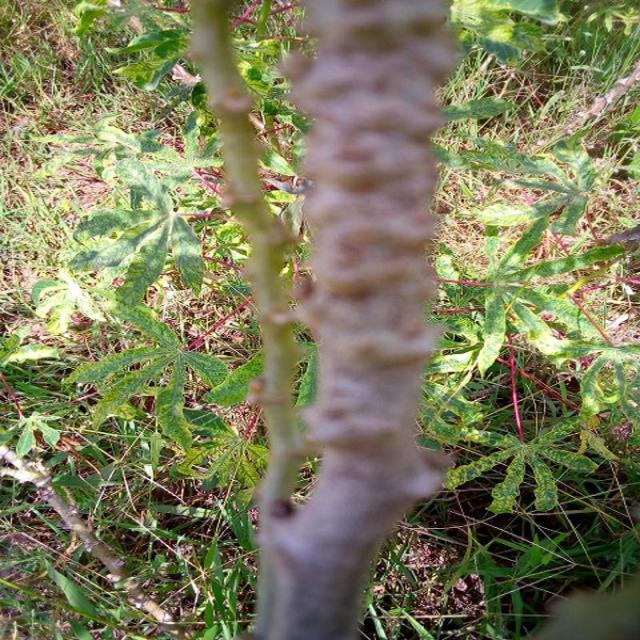cassava leaf: (68, 153, 205, 314)
